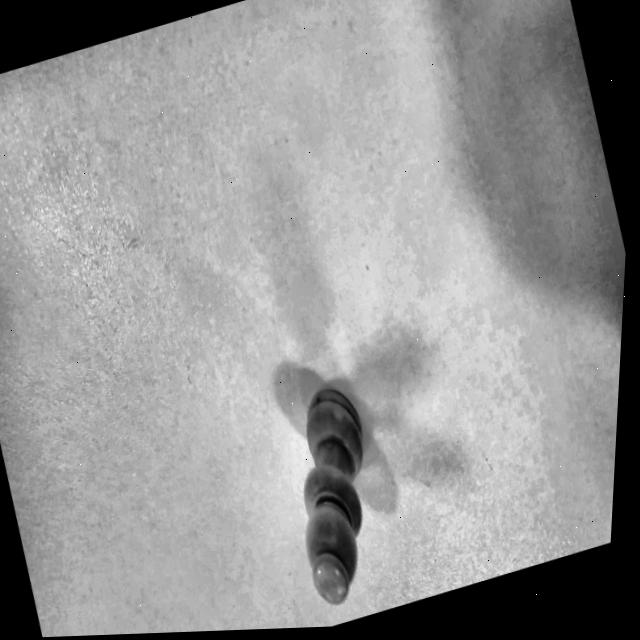white-bishop: (274, 368, 390, 604)
